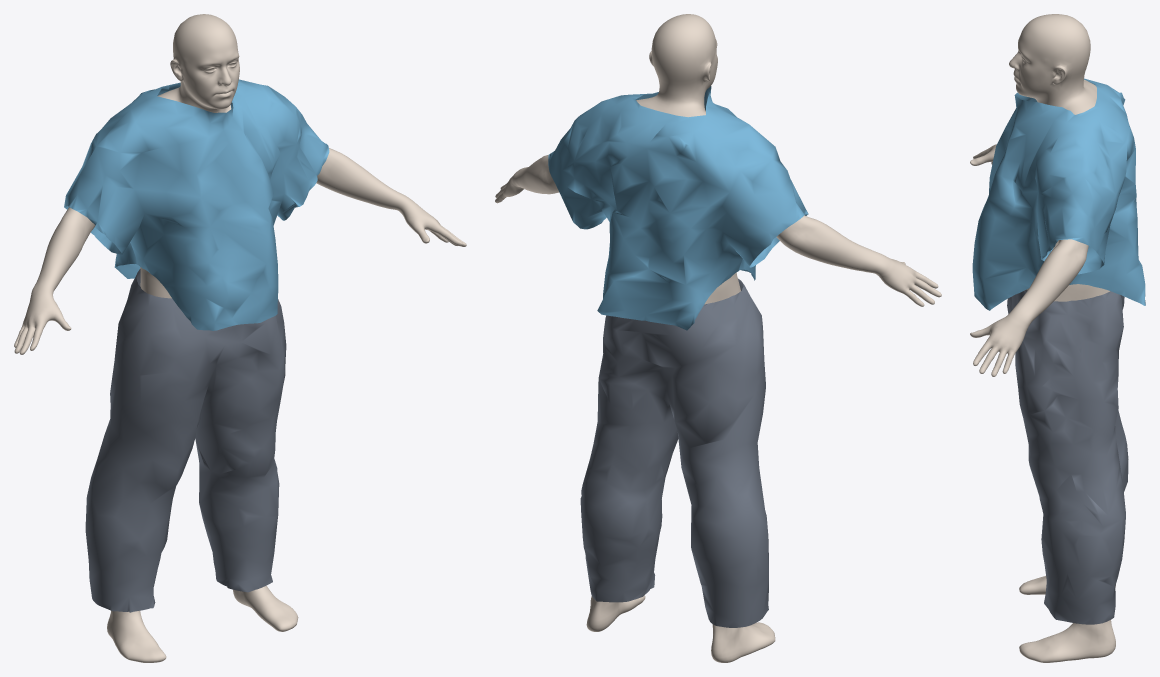
3 views of the same model, side by side, from view 1: azimuth 30°, elevation 25°; view 2: azimuth 150°, elevation 25°; view 3: azimuth 270°, elevation 25° (orthographic).
Parts seen in each view (by area): view 1: pants, shirt, body; view 2: pants, shirt, body; view 3: pants, shirt, body.
Boxes of the visible parts, box(x1,y1,x2,y2) form: pants: box(85, 269, 286, 612); shirt: box(64, 79, 329, 330); body: box(14, 14, 466, 662); pants: box(580, 278, 768, 627); shirt: box(548, 86, 808, 330); body: box(495, 14, 941, 662); pants: box(1007, 289, 1128, 624); shirt: box(972, 78, 1145, 310); body: box(970, 14, 1115, 662).
Size of the model in its own units: 1.34 by 1.78 by 0.4667.
